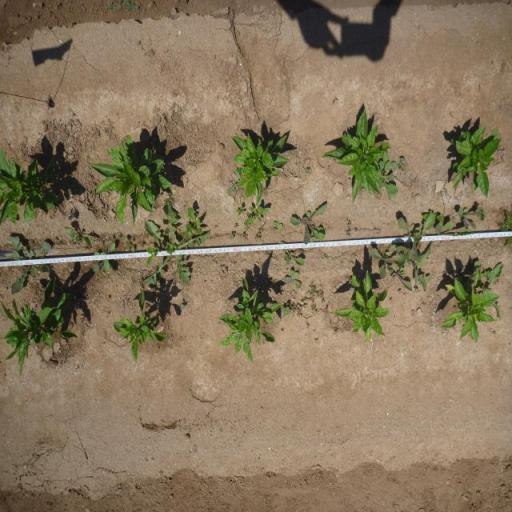plant: (89, 134, 170, 224), (326, 106, 384, 204), (0, 294, 70, 374), (219, 277, 281, 365), (0, 152, 61, 230), (446, 124, 502, 198), (113, 288, 164, 362), (337, 271, 387, 343), (238, 133, 289, 202), (440, 278, 493, 342)
weed: (142, 212, 192, 286), (396, 208, 436, 290), (6, 232, 52, 295), (289, 202, 327, 244), (292, 282, 324, 322), (371, 245, 406, 280), (92, 242, 116, 276), (382, 152, 398, 198), (479, 262, 505, 290), (182, 204, 203, 238), (457, 206, 487, 229), (278, 240, 304, 266), (66, 225, 92, 249), (497, 208, 512, 249), (435, 221, 474, 236), (392, 266, 412, 292), (282, 268, 304, 290), (245, 206, 269, 226), (106, 0, 140, 14), (227, 174, 241, 194), (123, 236, 138, 252), (391, 157, 407, 171), (254, 224, 266, 242), (270, 220, 284, 231), (344, 220, 352, 238), (282, 307, 291, 318), (236, 206, 245, 215), (305, 166, 312, 174), (229, 232, 236, 240), (144, 302, 151, 310), (305, 320, 310, 330), (180, 300, 185, 310), (242, 232, 248, 240), (332, 328, 338, 335), (314, 338, 320, 344), (281, 326, 285, 332), (234, 222, 238, 228), (330, 321, 332, 328)
